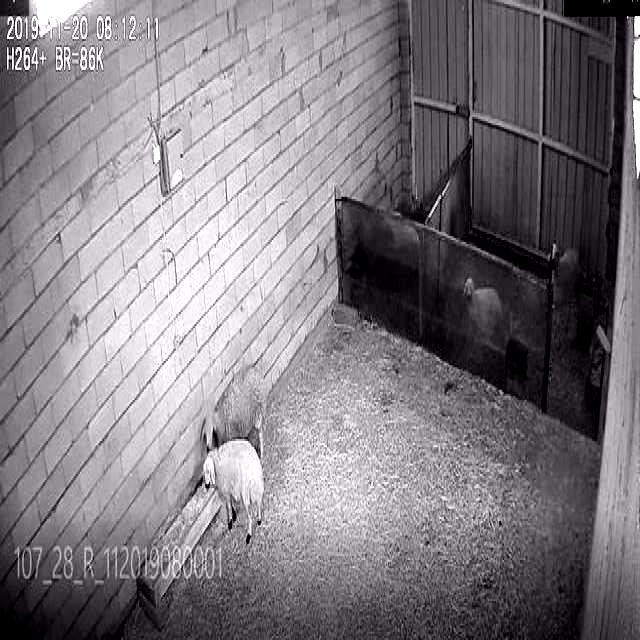sheep: (203, 368, 268, 454)
